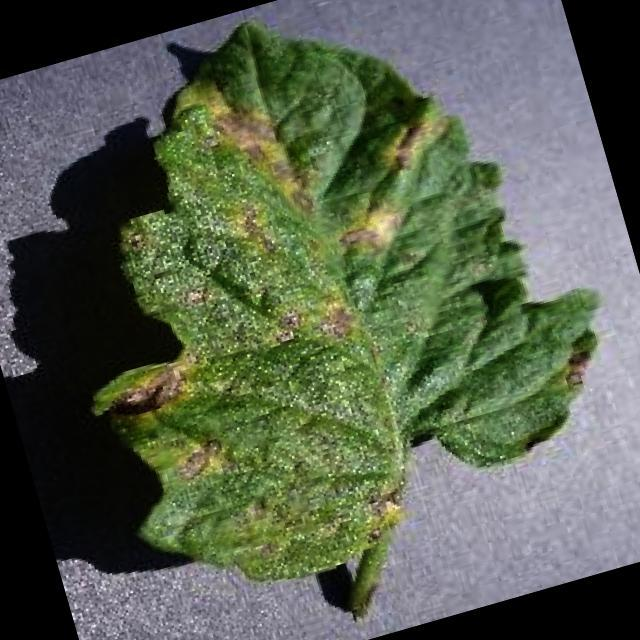Tomato Septoria spot leaf: (2, 0, 640, 620)
